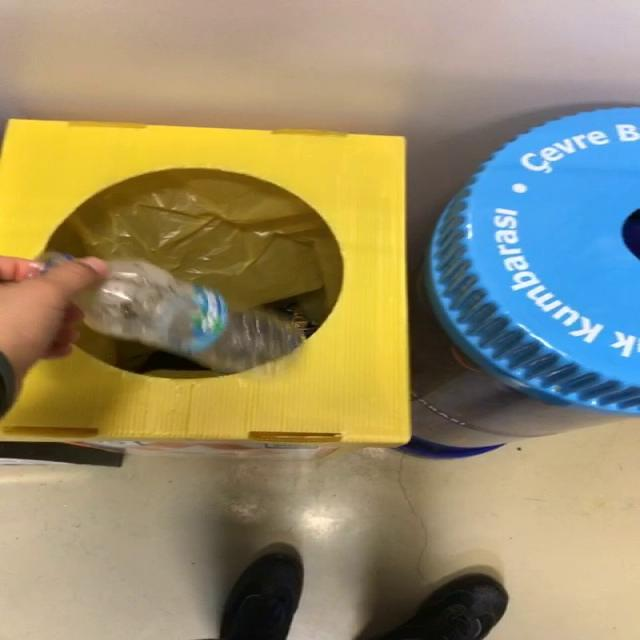plastic: (72, 260, 303, 372)
